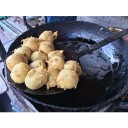bonda: (25, 68, 48, 89), (58, 69, 78, 90), (11, 63, 29, 84), (5, 53, 29, 67), (64, 58, 82, 73), (47, 67, 59, 88), (49, 55, 65, 70), (23, 36, 39, 50), (40, 29, 57, 42), (30, 49, 48, 61), (39, 40, 54, 53)
